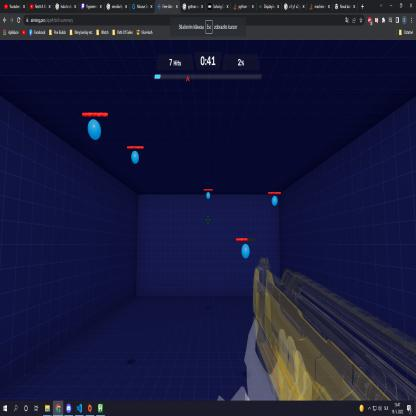sphere: (87, 119, 102, 142), (241, 243, 251, 262), (130, 148, 140, 166), (271, 196, 279, 206), (206, 191, 211, 201)
